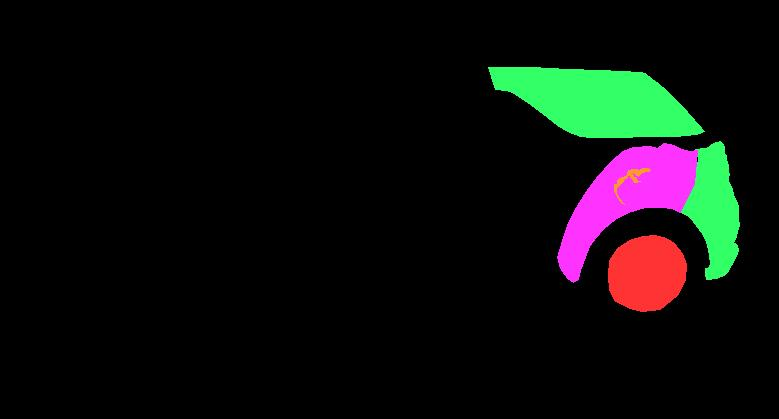Broken part: (488, 67, 704, 137), (678, 167, 739, 279), (695, 141, 729, 186)
Dent: (557, 143, 697, 282)
Missing part: (608, 235, 686, 311)
Paint chip: (614, 168, 650, 204)
